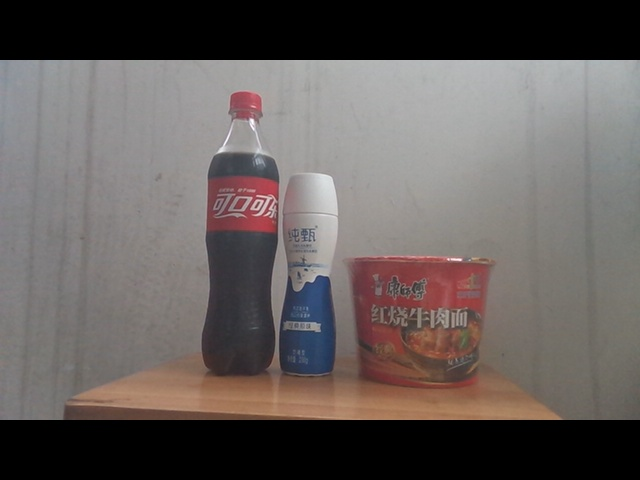cola: (201, 92, 279, 374)
kangshifu: (341, 255, 499, 390)
yogurt: (280, 172, 339, 381)
